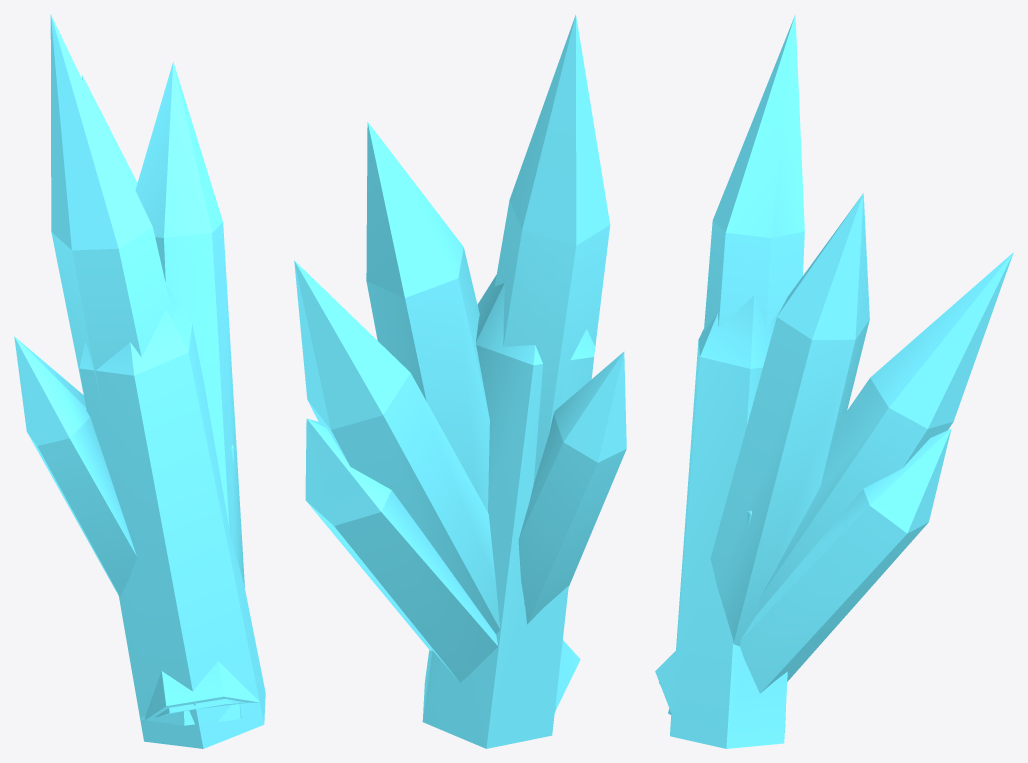
File: obj_deco_cristales.glb
3 renders of one model, left to right at view 1: azimuth 30°, elevation 25°; view 2: azimuth 150°, elevation 25°; view 3: azimuth 270°, elevation 25°, orthographic. The views are drawn at different scales.
Visible parts, largest first — view 1: propforge-libre-deco_cristales; view 2: propforge-libre-deco_cristales; view 3: propforge-libre-deco_cristales.
Part boxes in pixels (<box>): propforge-libre-deco_cristales: <box>14,14,265,748</box>; propforge-libre-deco_cristales: <box>294,14,626,748</box>; propforge-libre-deco_cristales: <box>655,14,1013,748</box>.
Bounding box in the file's own units: 0.2441 × 0.7129 × 0.3445.
